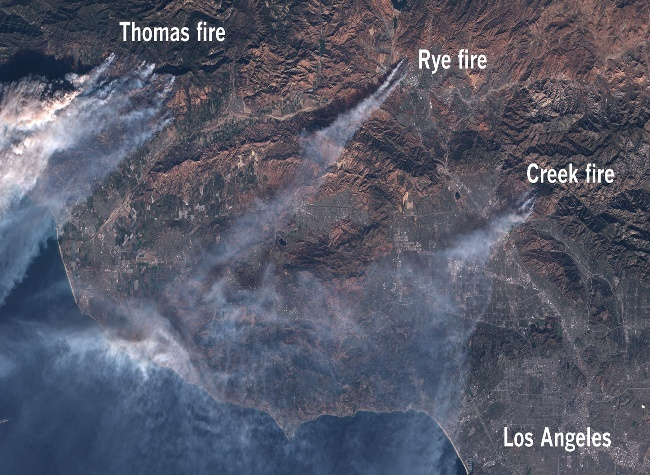Smoke: (77, 325, 193, 376), (514, 191, 541, 224), (138, 60, 167, 73)
